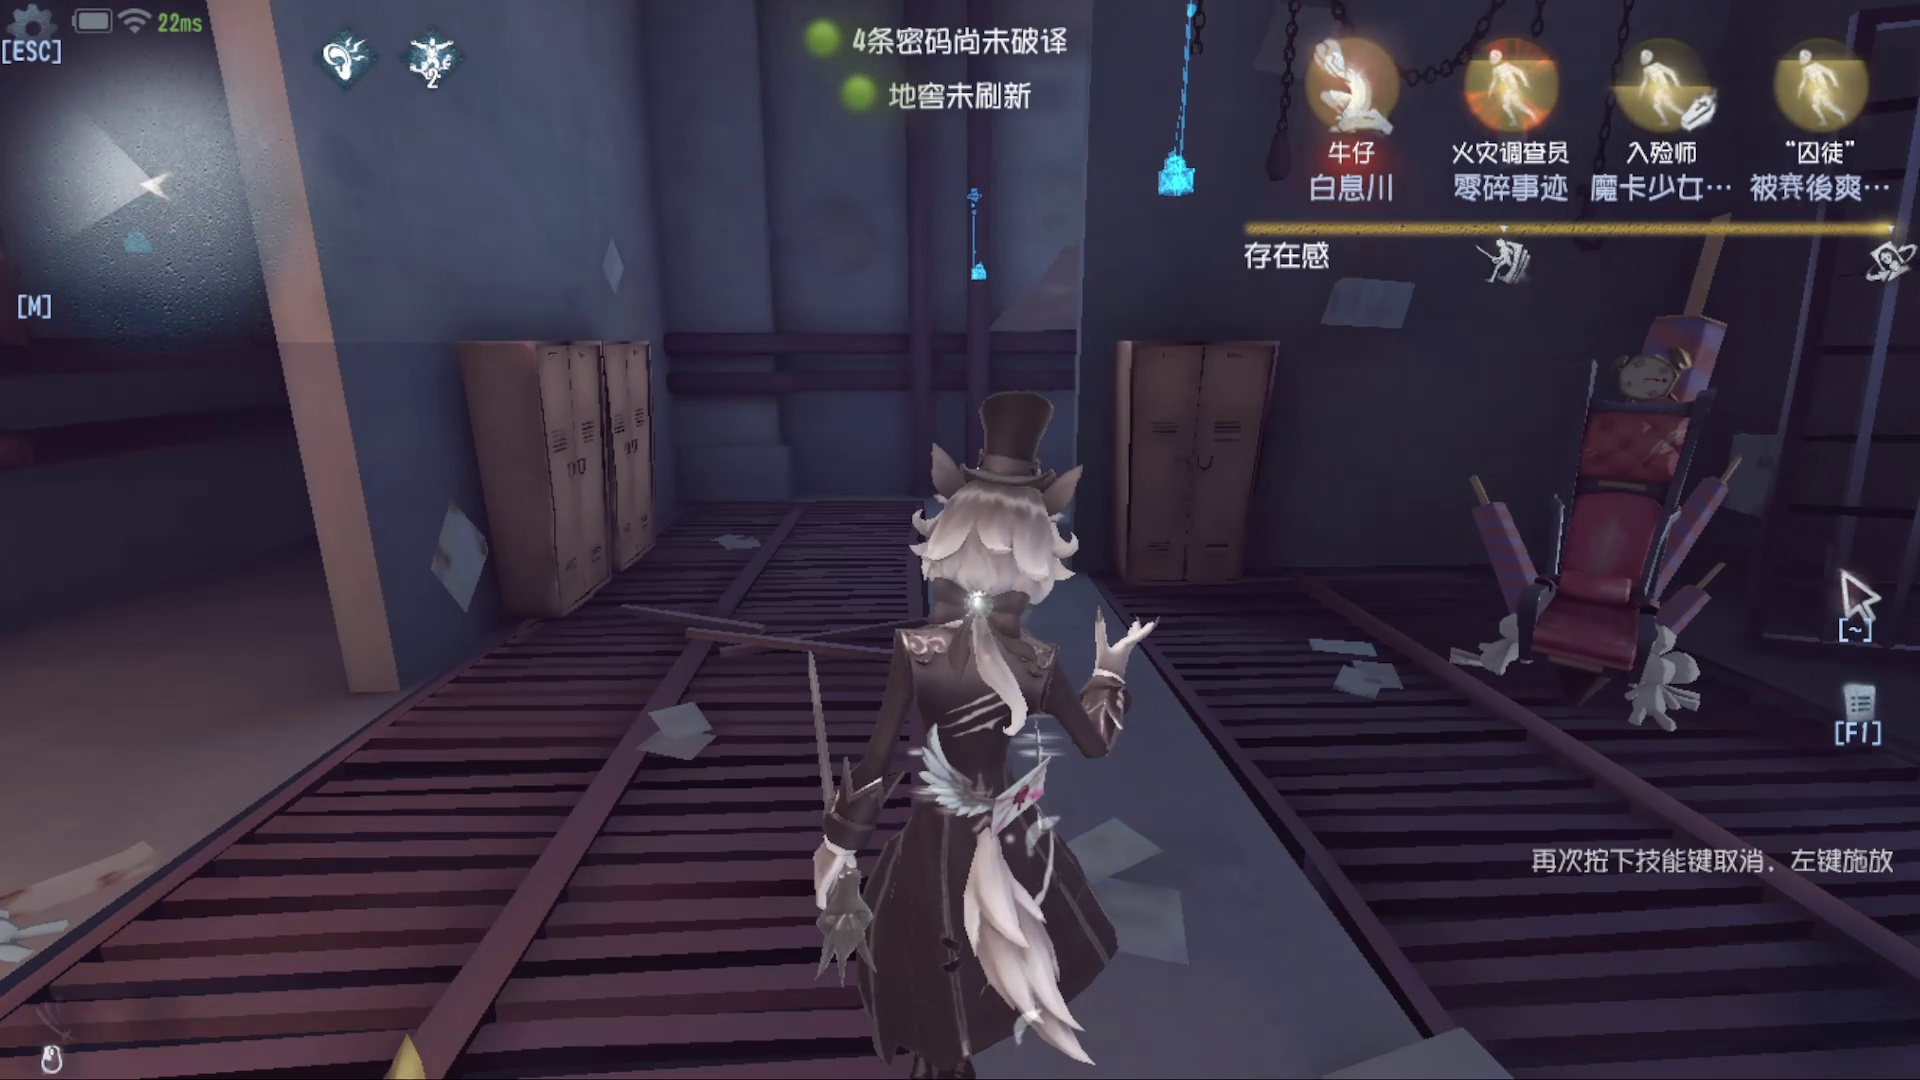狂欢之椅: (1484, 274, 1687, 725)
